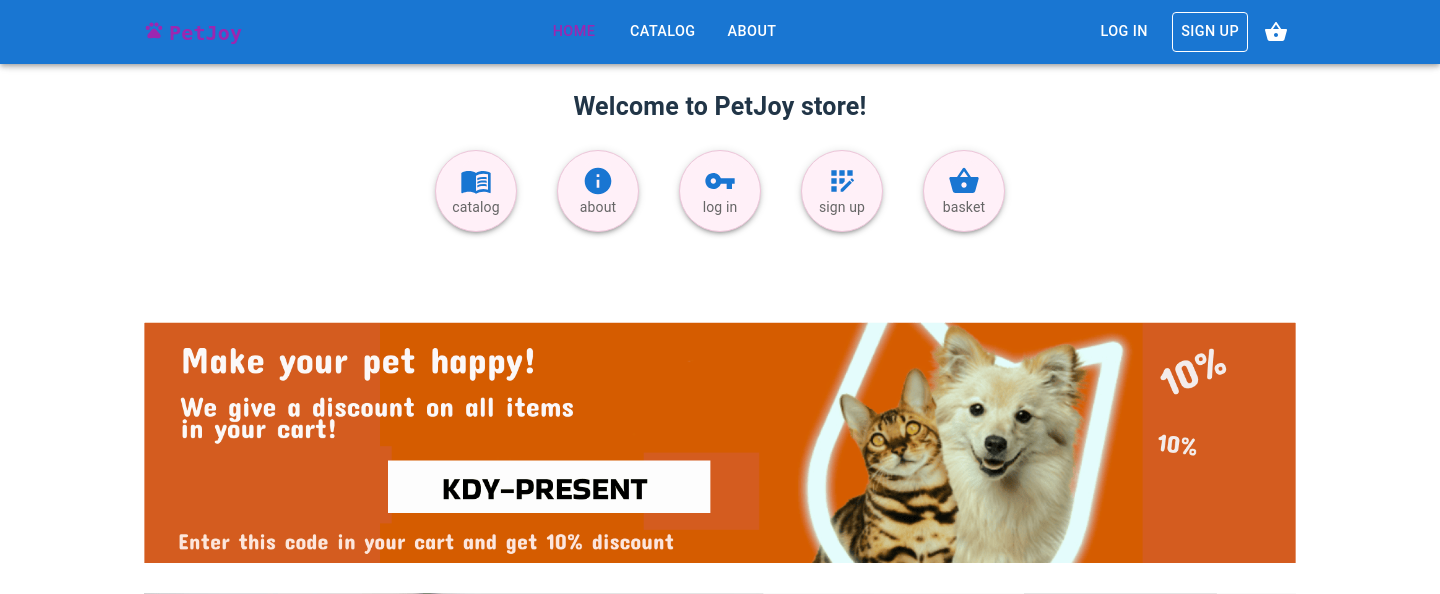
Test case: Demonstrating  navigation › from main to About
This screenshot has width=1440, height=594.
Expected: the text "Welcome to PetJoy store!" is shown, [573,92,867,121]
Step 1. Click the link "About" → (752, 32), box [728,23,776,40]
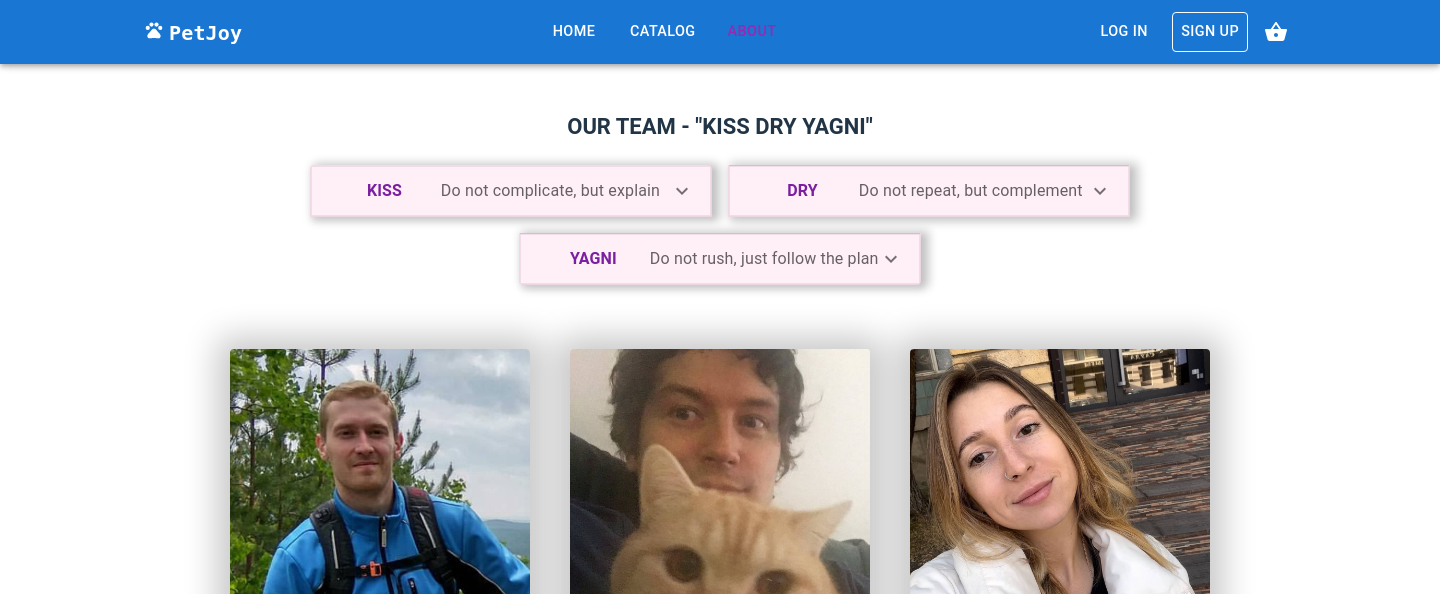
Result: the heading "OUR TEAM - \"KISS DRY YAGNI\"" is shown at [567,114,873,139]
